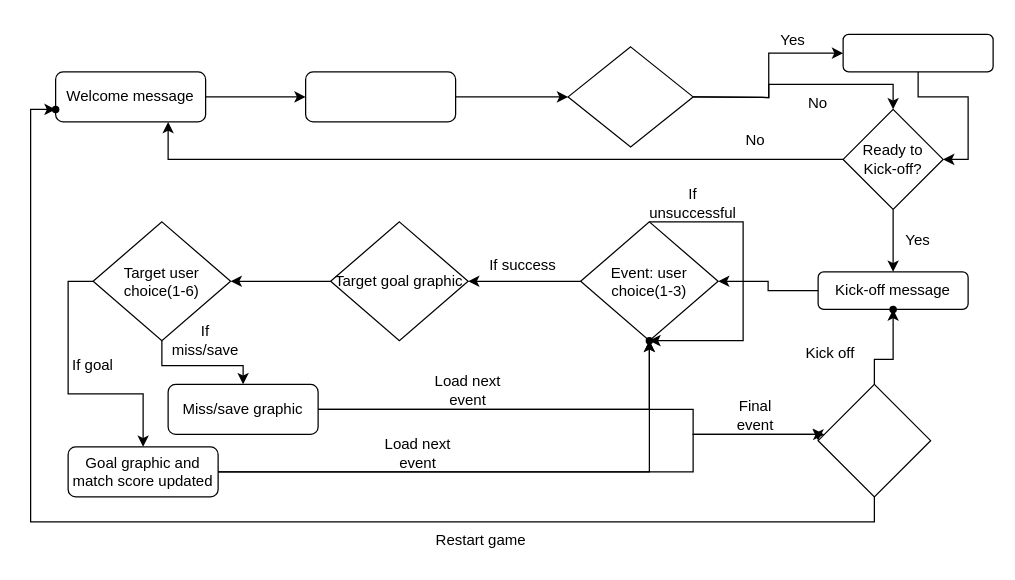
Some shapes in this 1015 by 580 pixel diagram are drawn without their labels. The centre of each missing label's shape, as x and y in pixels:
end of game menu: the point at 874,440
Show stats: the point at 917,52
Team selection(1-5): the point at 380,96
Team stats: the point at 630,96
